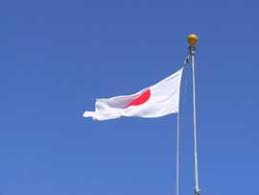Japanese Flag: (80, 59, 185, 125)
